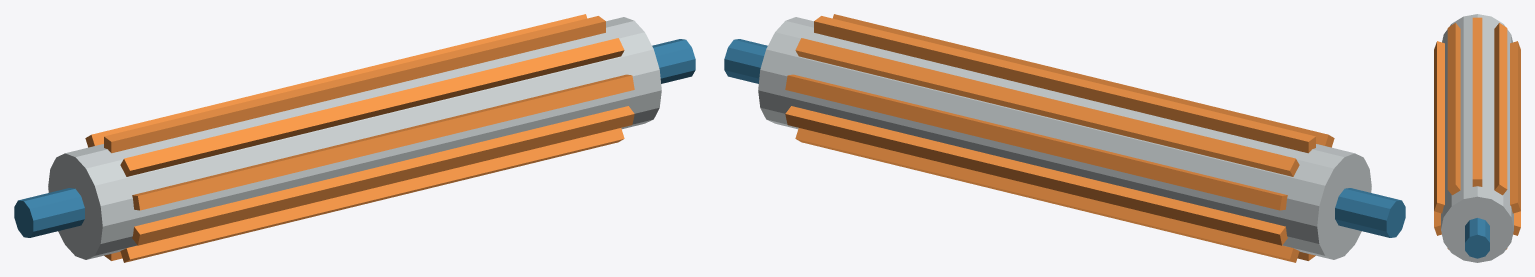
File: CYCLE-008.glb
3 views of the same model, side by side, from view 1: azimuth 30°, elevation 25°; view 2: azimuth 150°, elevation 25°; view 3: azimuth 270°, elevation 25° (orthographic). The views are drawn at different scales.
Parts seen in each view (by area): view 1: CYCLE-008; view 2: CYCLE-008; view 3: CYCLE-008.
Part boxes in pixels (left/top/right/bottom): CYCLE-008: left=14, top=14, right=695, bottom=262; CYCLE-008: left=724, top=14, right=1405, bottom=262; CYCLE-008: left=1434, top=14, right=1520, bottom=262.
Bounding box in the file's own units: 3.08 × 0.53 × 0.5226.
